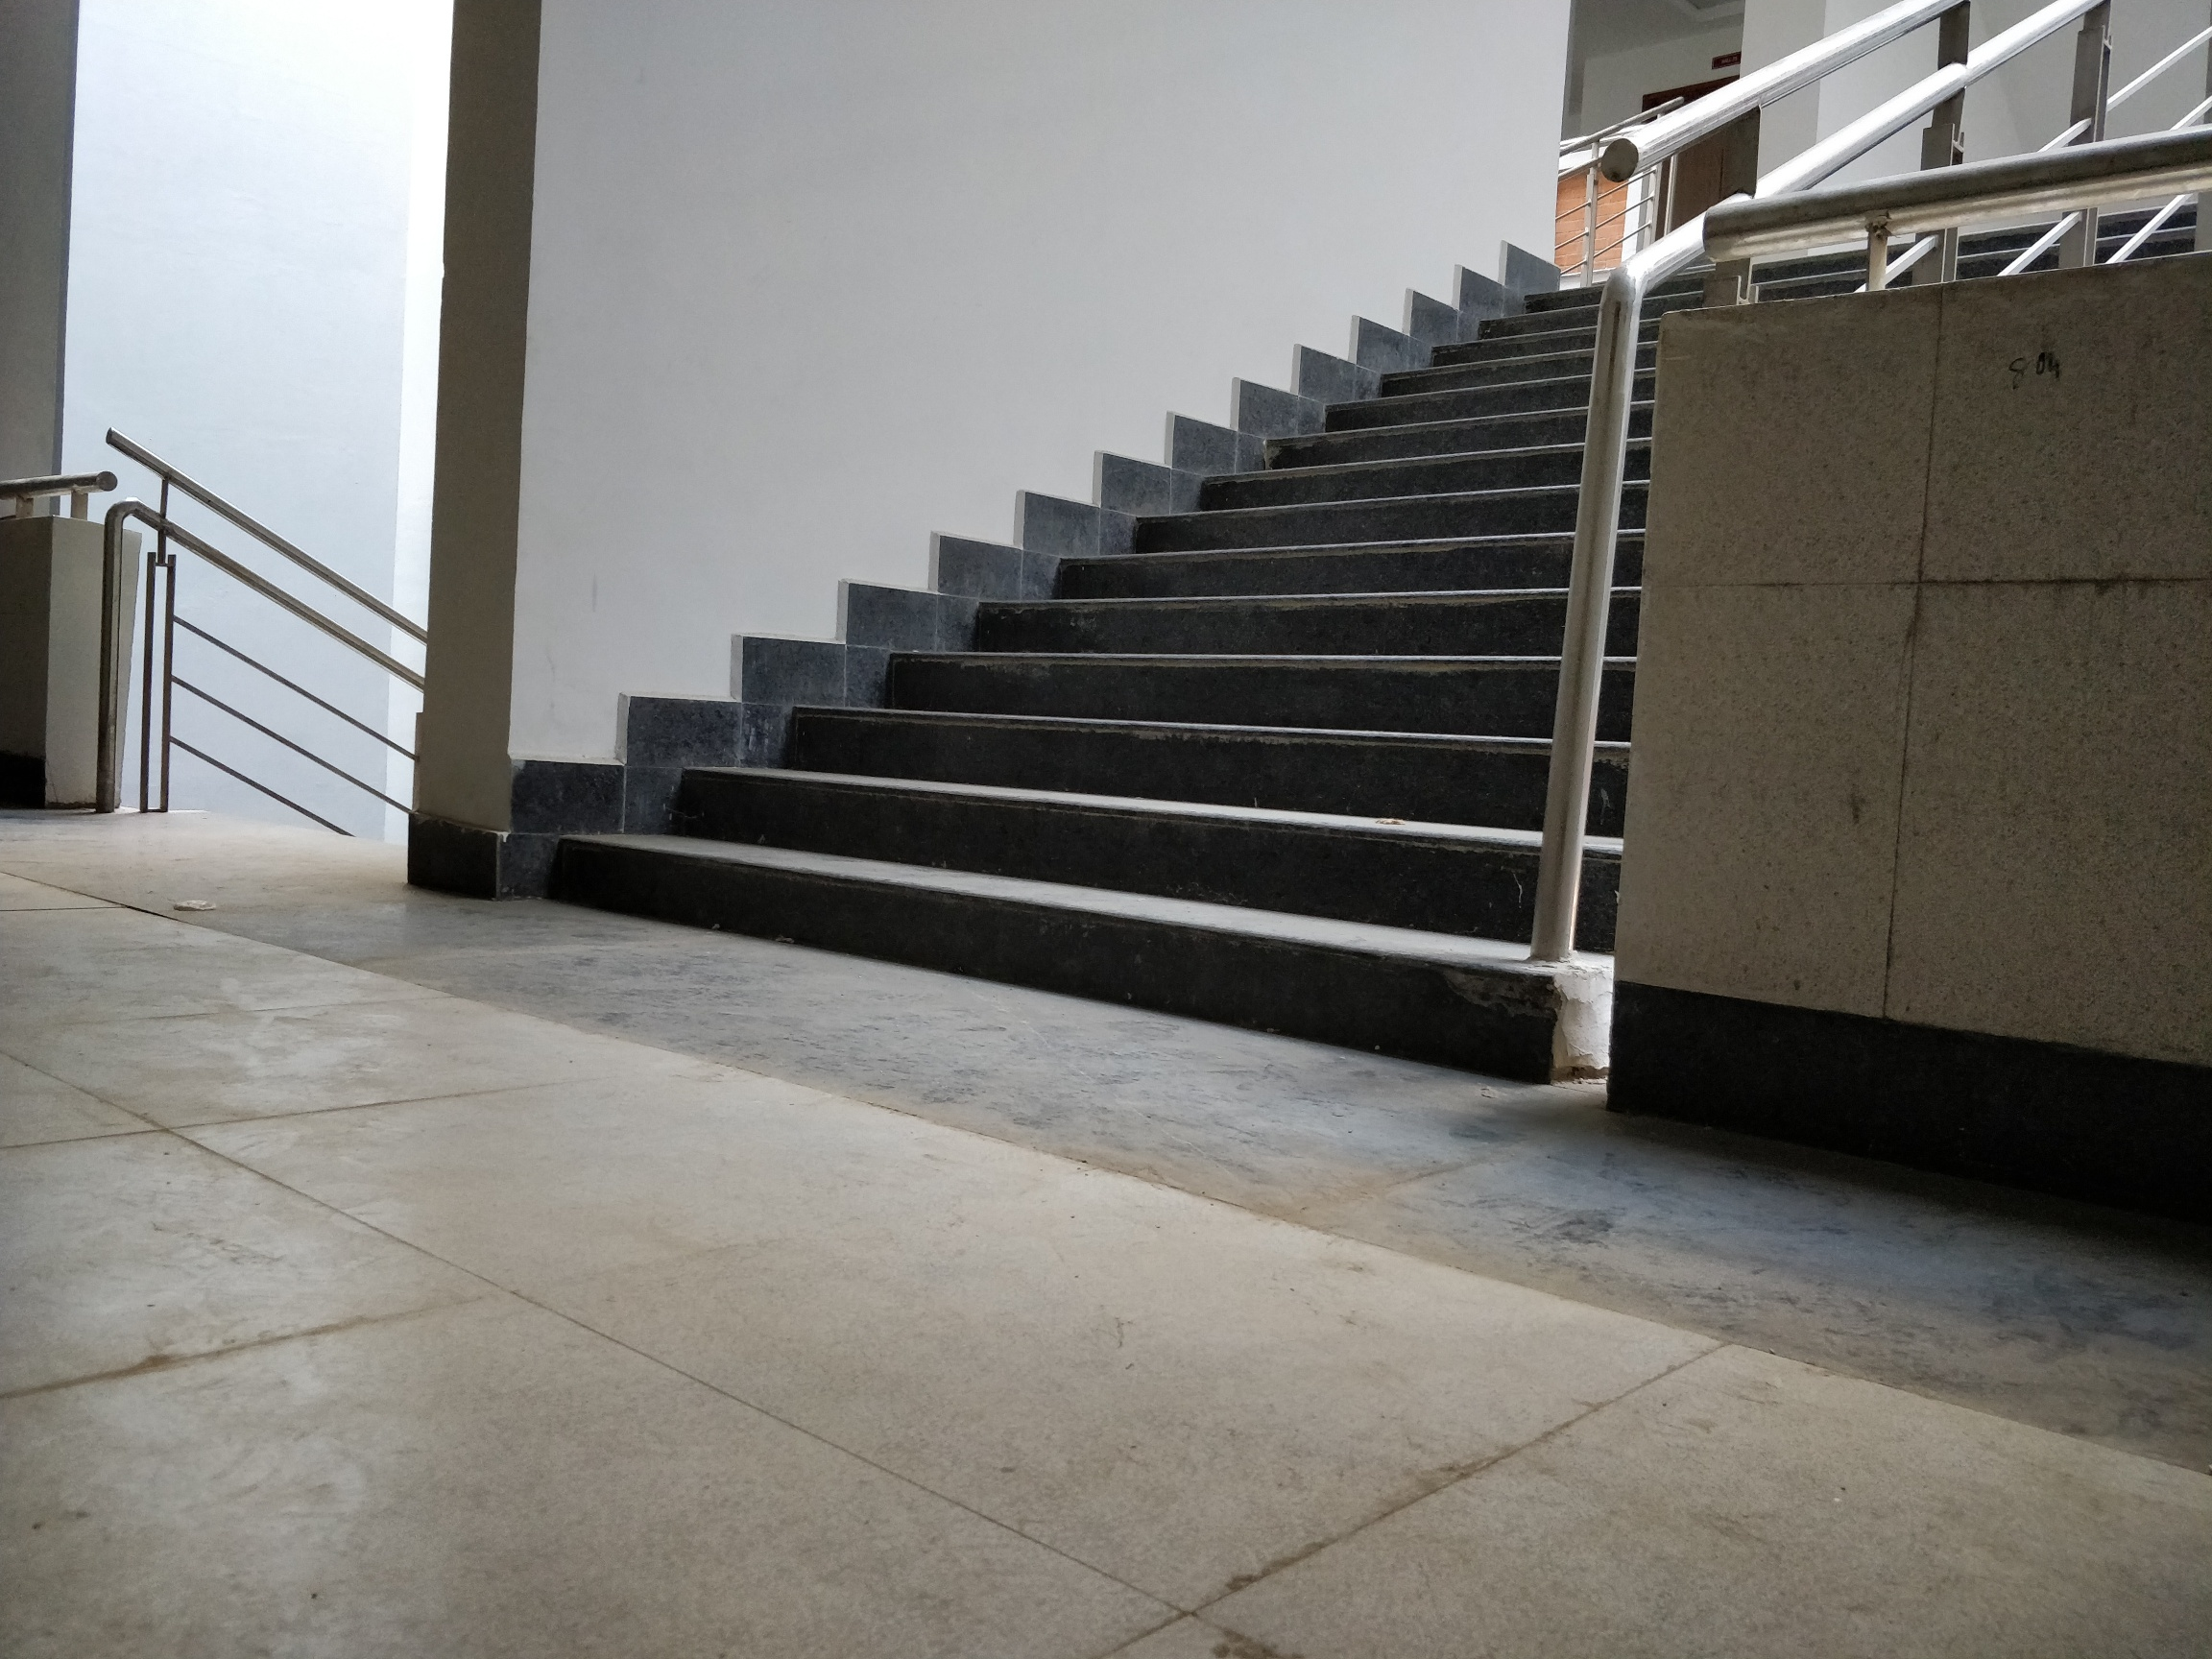stairs_up: (533, 220, 1637, 1084)
